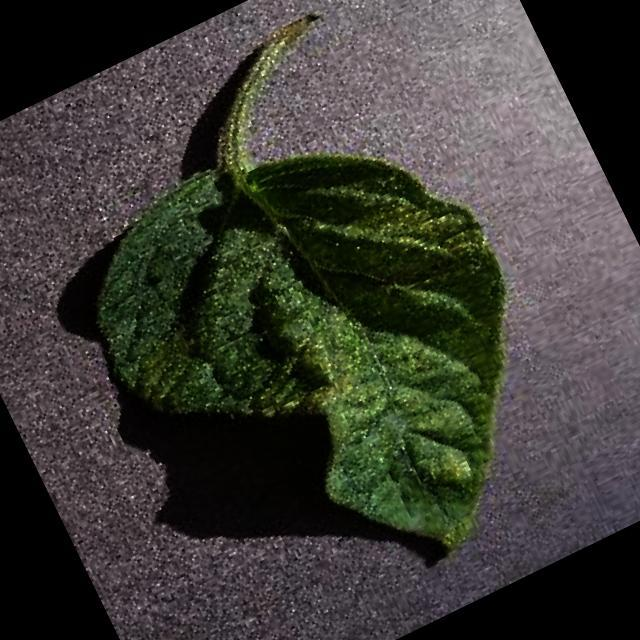Tomato spider mites leaf: (52, 70, 604, 640)
